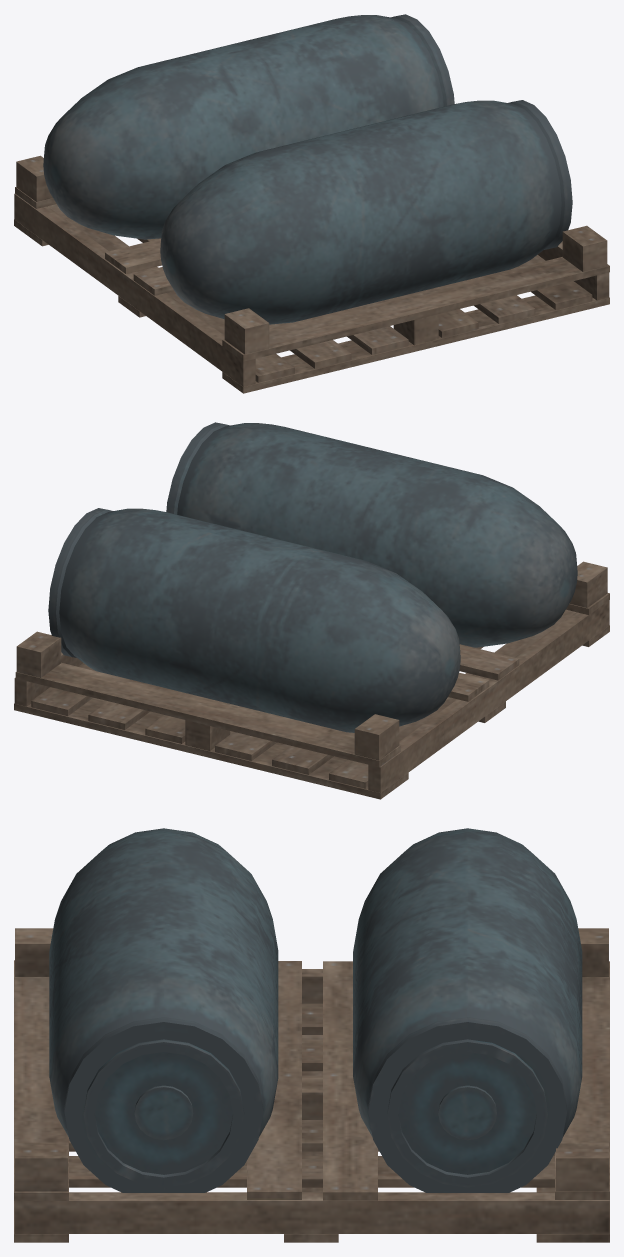
Rendered from SM_Missile_Pallet_3.fbx.
3 renders of one model, top to bottom at view 1: azimuth 30°, elevation 25°; view 2: azimuth 150°, elevation 25°; view 3: azimuth 270°, elevation 25°, orthographic. The views are drawn at different scales.
Visible parts, largest first — view 1: SM_Missile_Pallet_3_LOD0; view 2: SM_Missile_Pallet_3_LOD0; view 3: SM_Missile_Pallet_3_LOD0.
Boxes of the visible parts, x1=… form: SM_Missile_Pallet_3_LOD0: x1=14, y1=14, x2=609, y2=393; SM_Missile_Pallet_3_LOD0: x1=14, y1=422, x2=609, y2=799; SM_Missile_Pallet_3_LOD0: x1=14, y1=828, x2=609, y2=1242.
Bounding box in the file's own units: 124 × 130 × 53.72.
2 materials, 2 textured.
